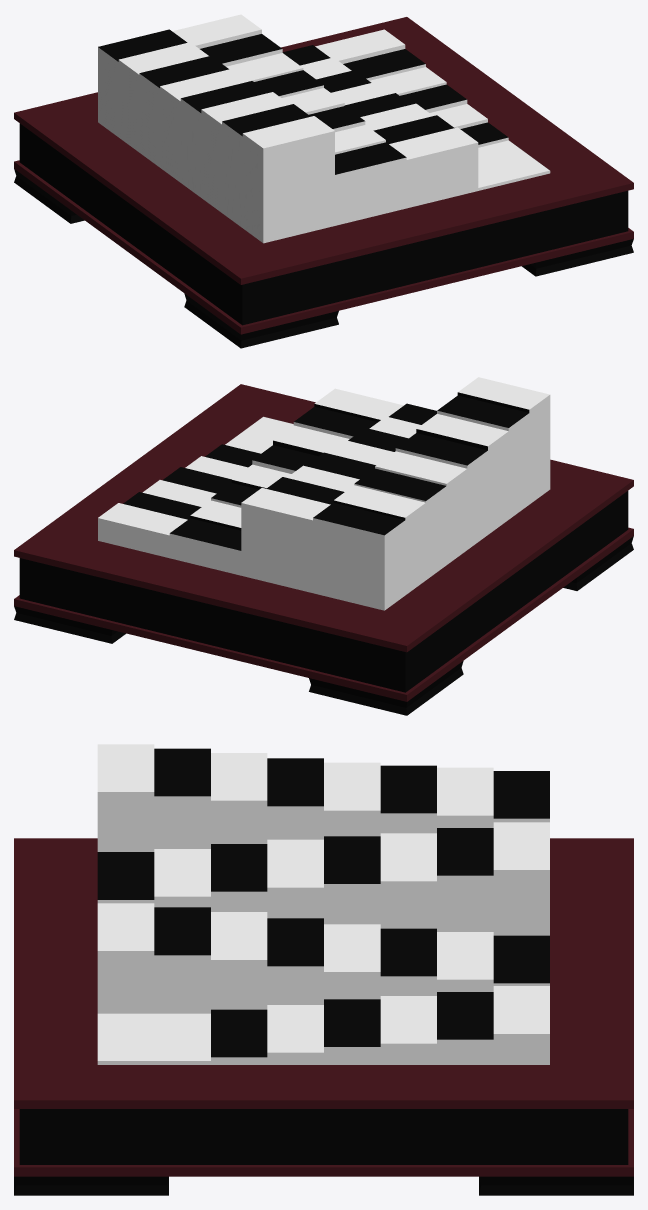
Rendered from board.glb.
3 renders of one model, top to bottom at view 1: azimuth 30°, elevation 25°; view 2: azimuth 150°, elevation 25°; view 3: azimuth 270°, elevation 25°, orthographic. The views are drawn at different scales.
Visible parts, largest first — view 1: board; view 2: board; view 3: board.
Part boxes in pixels (x1,y1,x2,y2): board: [14, 14, 633, 348]; board: [14, 377, 633, 715]; board: [14, 744, 633, 1195].
Size of the model in its own units: 0.6579 by 0.2634 by 0.6579.
